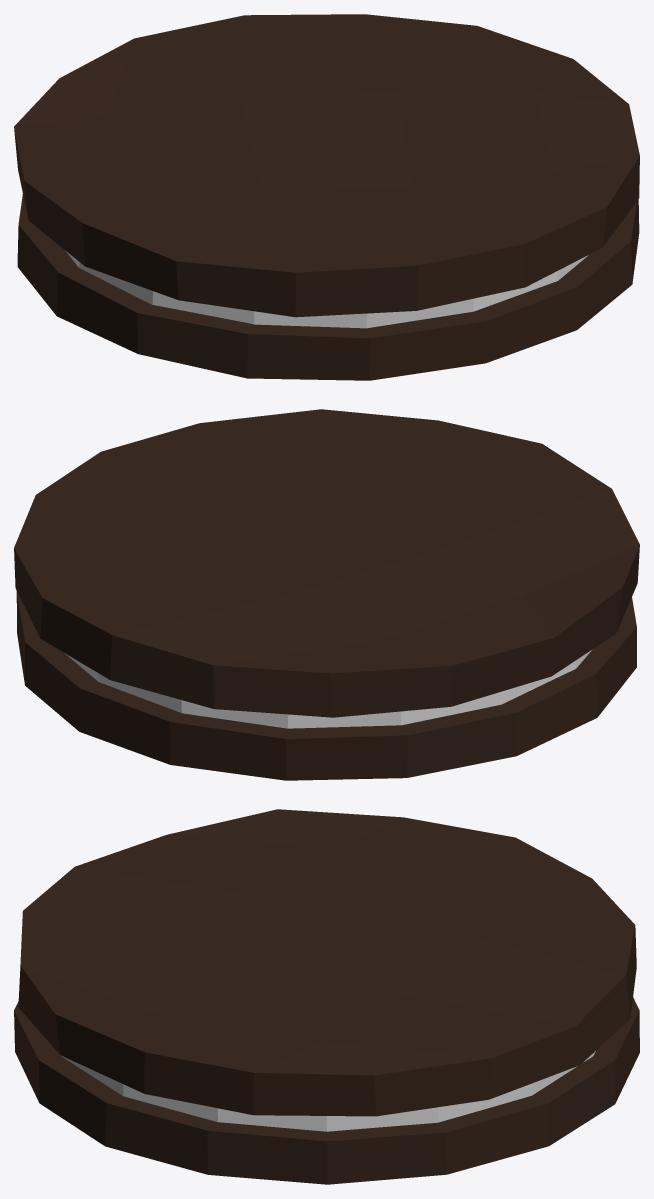
Rendered from Oreo.fbx.
3 renders of one model, top to bottom at view 1: azimuth 30°, elevation 25°; view 2: azimuth 150°, elevation 25°; view 3: azimuth 270°, elevation 25°, orthographic.
Parts seen in each view (by area): view 1: oreo; view 2: oreo; view 3: oreo.
Boxes of the visible parts, x1=… form: oreo: x1=14, y1=14, x2=639, y2=380; oreo: x1=14, y1=409, x2=639, y2=780; oreo: x1=14, y1=809, x2=639, y2=1184.
Bounding box in the file's own units: 200 × 39.65 × 200.
